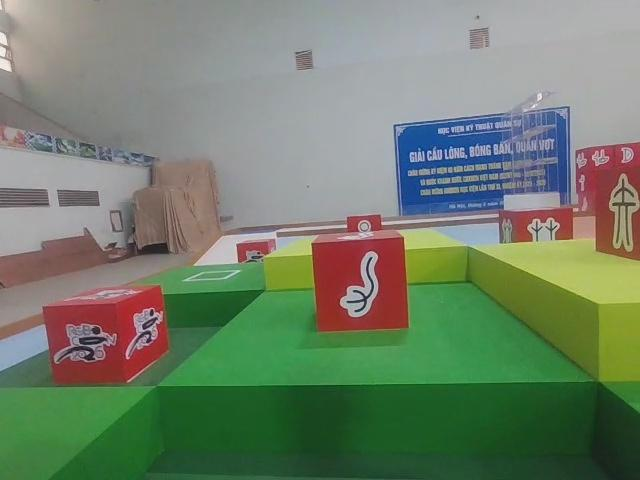R1: (40, 284, 169, 386)
R2 Fake: (590, 165, 640, 259)
R2 Real: (307, 227, 412, 335)
